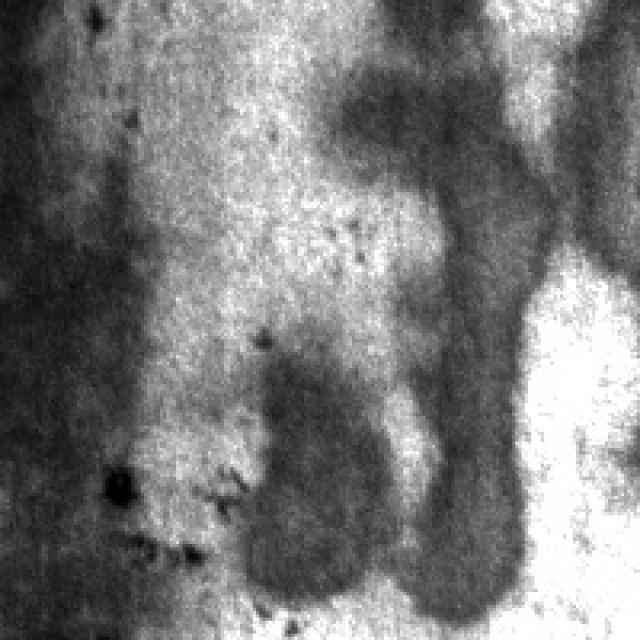patches: (365, 0, 557, 624), (3, 0, 163, 637), (236, 326, 394, 598), (557, 0, 640, 288)
